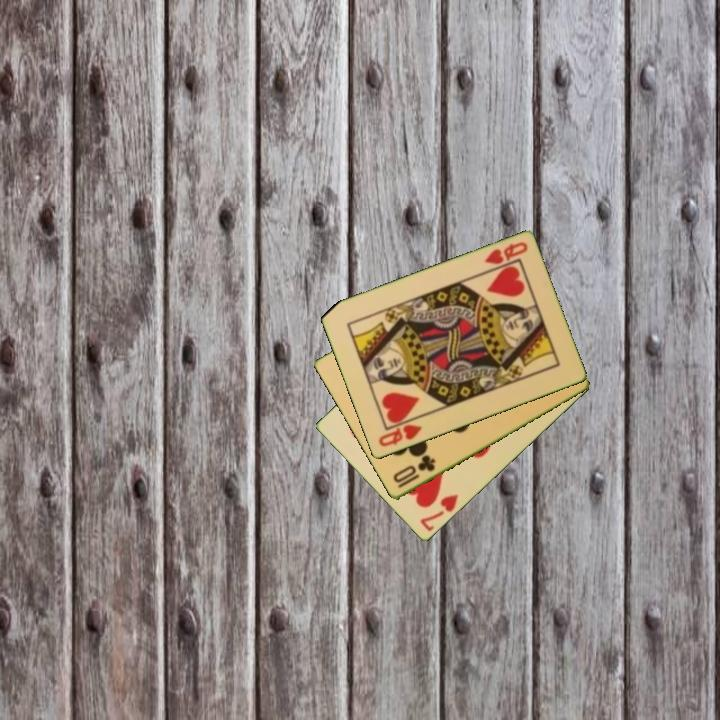10c: (389, 452, 438, 491)
7h: (416, 491, 461, 535)
Qh: (481, 239, 531, 268), (375, 421, 424, 450)
